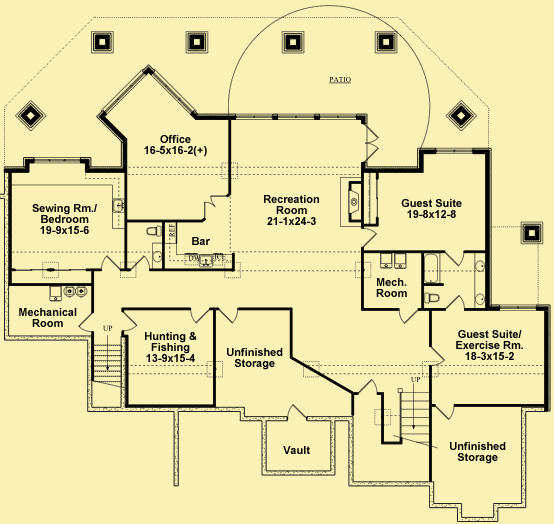door: (360, 124, 379, 165), (200, 191, 228, 215), (355, 226, 379, 250), (356, 377, 380, 399), (442, 247, 467, 268), (128, 255, 154, 275), (117, 311, 138, 335), (285, 399, 309, 420), (217, 305, 242, 325), (394, 306, 419, 326), (95, 253, 120, 272), (186, 305, 210, 324), (75, 311, 93, 335), (445, 294, 466, 314), (435, 402, 455, 419)
large sink: (422, 289, 444, 307), (140, 222, 164, 238)
small sink: (475, 250, 488, 310), (150, 243, 163, 271)
stairs: (89, 322, 130, 410), (394, 374, 436, 451)
tub: (424, 252, 441, 284)
windows: (230, 109, 360, 127), (26, 152, 83, 167), (427, 141, 477, 157)
